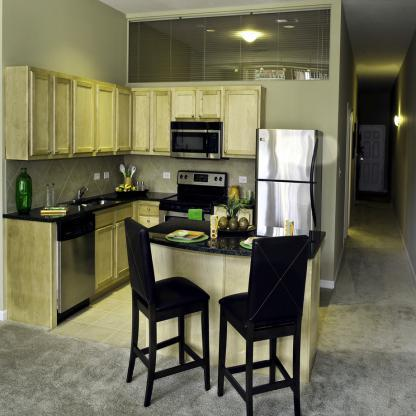door: (357, 125, 385, 191)
hinged: (382, 181, 384, 186), (384, 130, 385, 135), (384, 156, 385, 160)
